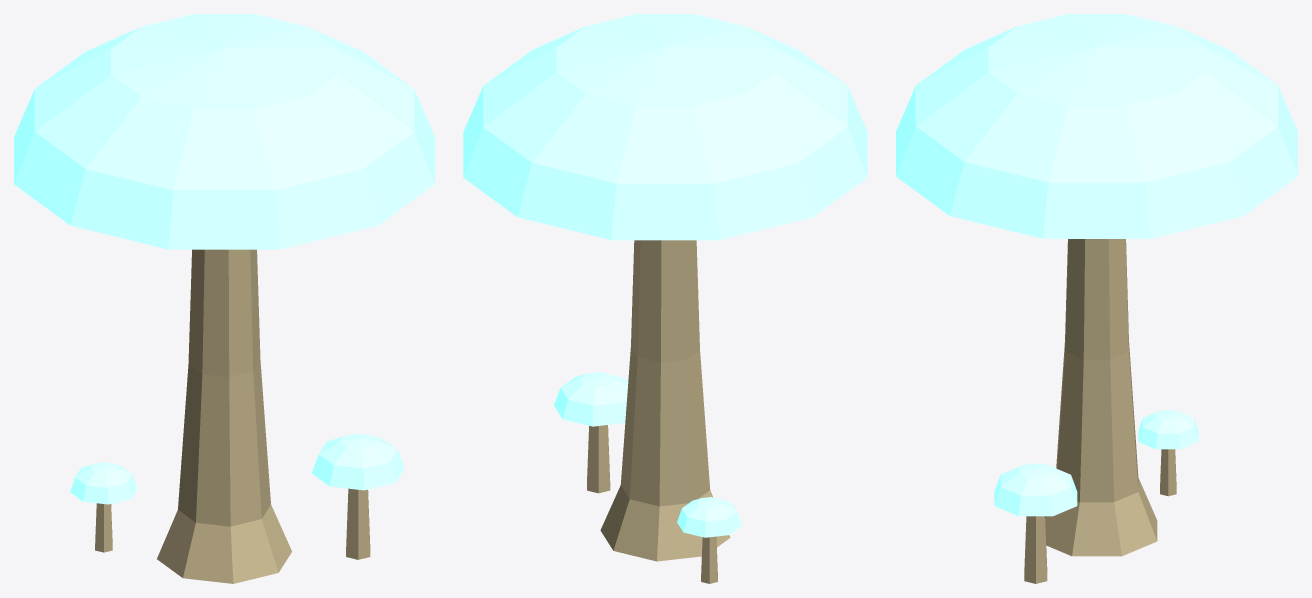
Rendered from mine_mushroom_giant.glb.
3 renders of one model, left to right at view 1: azimuth 30°, elevation 25°; view 2: azimuth 150°, elevation 25°; view 3: azimuth 270°, elevation 25°, orthographic. The views are drawn at different scales.
Parts seen in each view (by area): view 1: mine_mushroom_giant; view 2: mine_mushroom_giant; view 3: mine_mushroom_giant.
Part boxes in pixels (x1,y1,x2,y2): mine_mushroom_giant: (14,14,434,583); mine_mushroom_giant: (463,14,867,583); mine_mushroom_giant: (896,14,1297,583).
Size of what is drawn, in the model's own units: 1.97 by 2.62 by 1.97.
